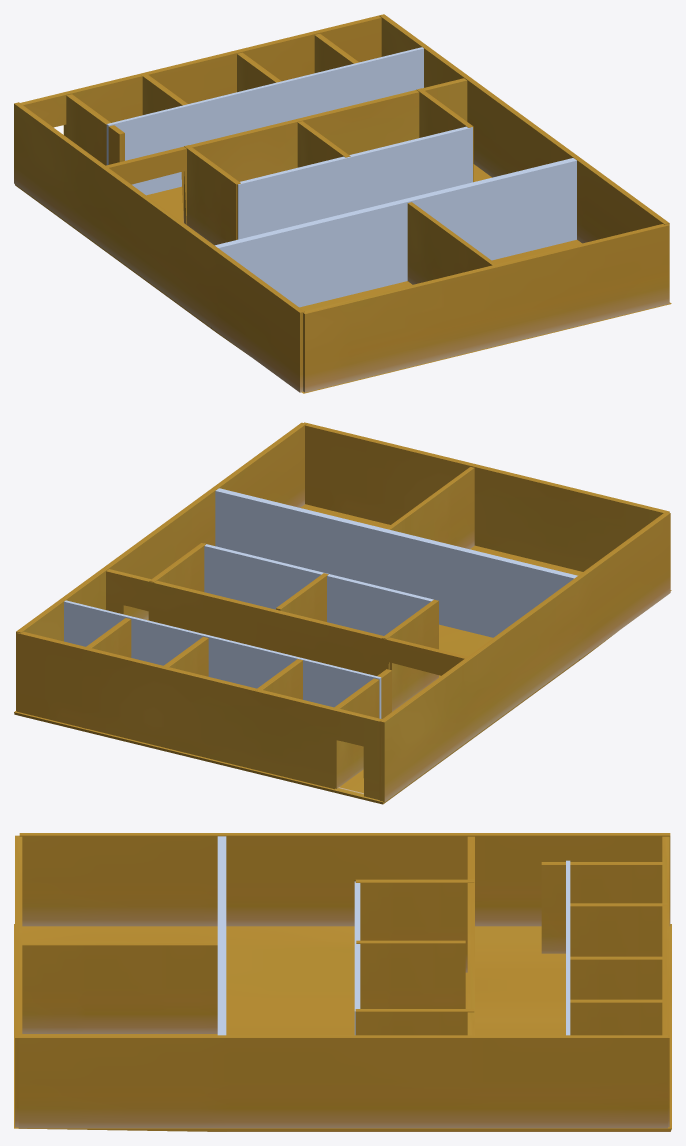
Rendered from estructura.obj.
The picture shows the model from 3 angles, top to bottom: view 1: azimuth 30°, elevation 25°; view 2: azimuth 150°, elevation 25°; view 3: azimuth 270°, elevation 25°; orthographic projection. The views are drawn at different scales.
Parts seen in each view (by area): view 1: pCube17, pCube2, pCube23, pCube24, pCube22, pCube12, pCube3, pCube9, pCube14, pCube18, pCube1, pCube6 (+5 smaller); view 2: pCube9, pCube2, pCube17, pCube23, pCube12, pCube3, pCube22, pCube24, pCube1, pCube18, pCube14, pCube6 (+5 smaller); view 3: pCube3, pCube2, pCube1, pCube18, pCube16, pCube14, pCube6, pCube7, pCube13, pCube8, pCube15, pCube23 (+5 smaller).
Boxes of the visible parts, <box> form: pCube17: <box>303,224,669,392</box>; pCube2: <box>14,102,304,392</box>; pCube23: <box>215,158,576,307</box>; pCube24: <box>238,126,472,239</box>; pCube22: <box>106,47,423,195</box>; pCube12: <box>106,78,467,224</box>; pCube3: <box>379,14,669,243</box>; pCube9: <box>20,15,381,134</box>; pCube14: <box>184,145,240,245</box>; pCube18: <box>407,202,496,284</box>; pCube1: <box>15,164,671,393</box>; pCube6: <box>64,94,124,165</box>; pCube9: <box>16,631,381,799</box>; pCube2: <box>379,512,670,802</box>; pCube17: <box>304,422,669,571</box>; pCube23: <box>215,488,577,637</box>; pCube12: <box>106,569,467,675</box>; pCube3: <box>16,422,306,710</box>; pCube22: <box>64,600,381,718</box>; pCube24: <box>204,544,433,635</box>; pCube1: <box>14,504,671,804</box>; pCube18: <box>386,467,474,549</box>; pCube14: <box>382,599,438,711</box>; pCube6: <box>334,669,391,788</box>; pCube3: <box>18,1035,667,1128</box>; pCube2: <box>19,833,670,926</box>; pCube1: <box>14,924,671,1131</box>; pCube18: <box>22,943,217,1033</box>; pCube16: <box>356,940,465,1008</box>; pCube14: <box>355,879,474,972</box>; pCube6: <box>541,862,662,953</box>; pCube7: <box>570,903,667,956</box>; pCube13: <box>570,956,662,999</box>; pCube8: <box>570,999,662,1035</box>; pCube15: <box>355,1009,474,1035</box>; pCube23: <box>217,836,226,1035</box>.
Bounding box in the file's own units: 19.92 × 4.25 × 27.
3 materials, 2 textured.
